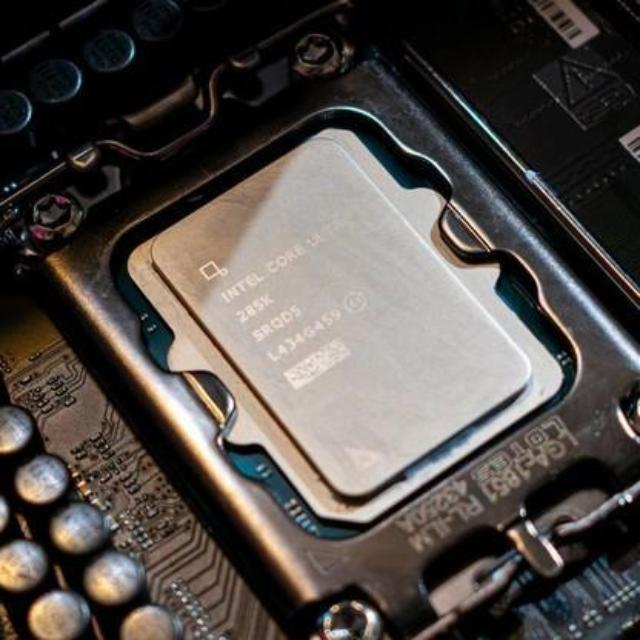CPU: (135, 136, 550, 501)
